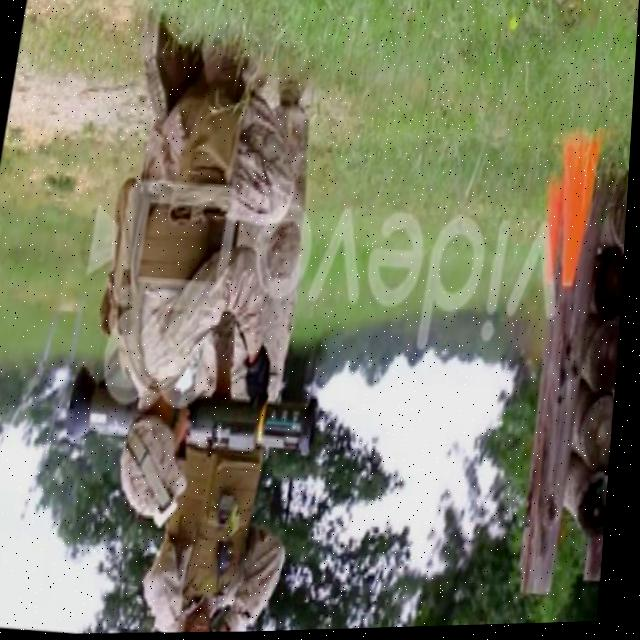rocket: (67, 365, 331, 471)
